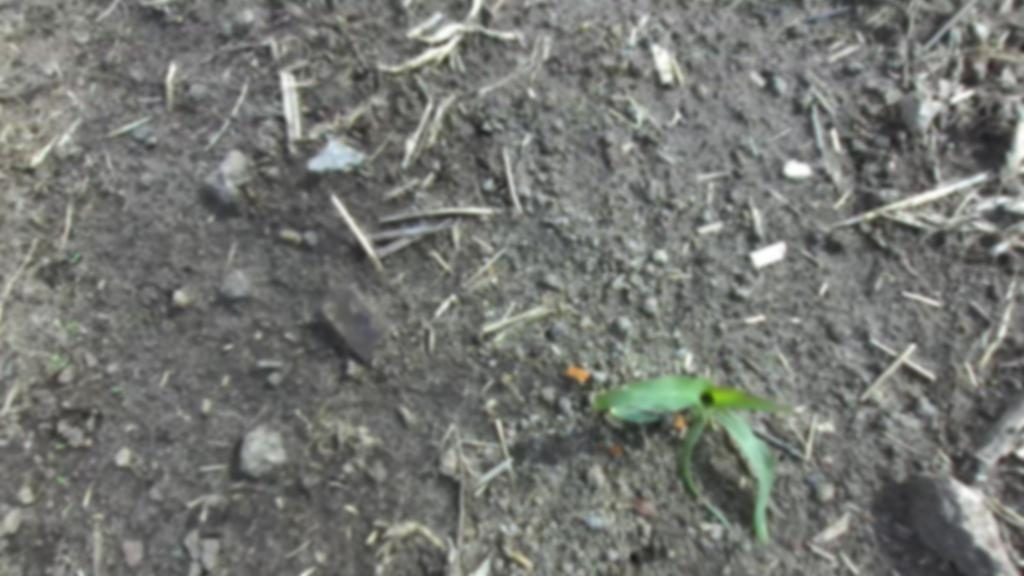BroWeed: (67, 250, 82, 265), (499, 372, 513, 385), (55, 474, 69, 486), (68, 318, 78, 330), (59, 357, 69, 369), (50, 351, 61, 361), (54, 441, 66, 450), (111, 387, 122, 392)
Maize: (566, 341, 814, 545)
